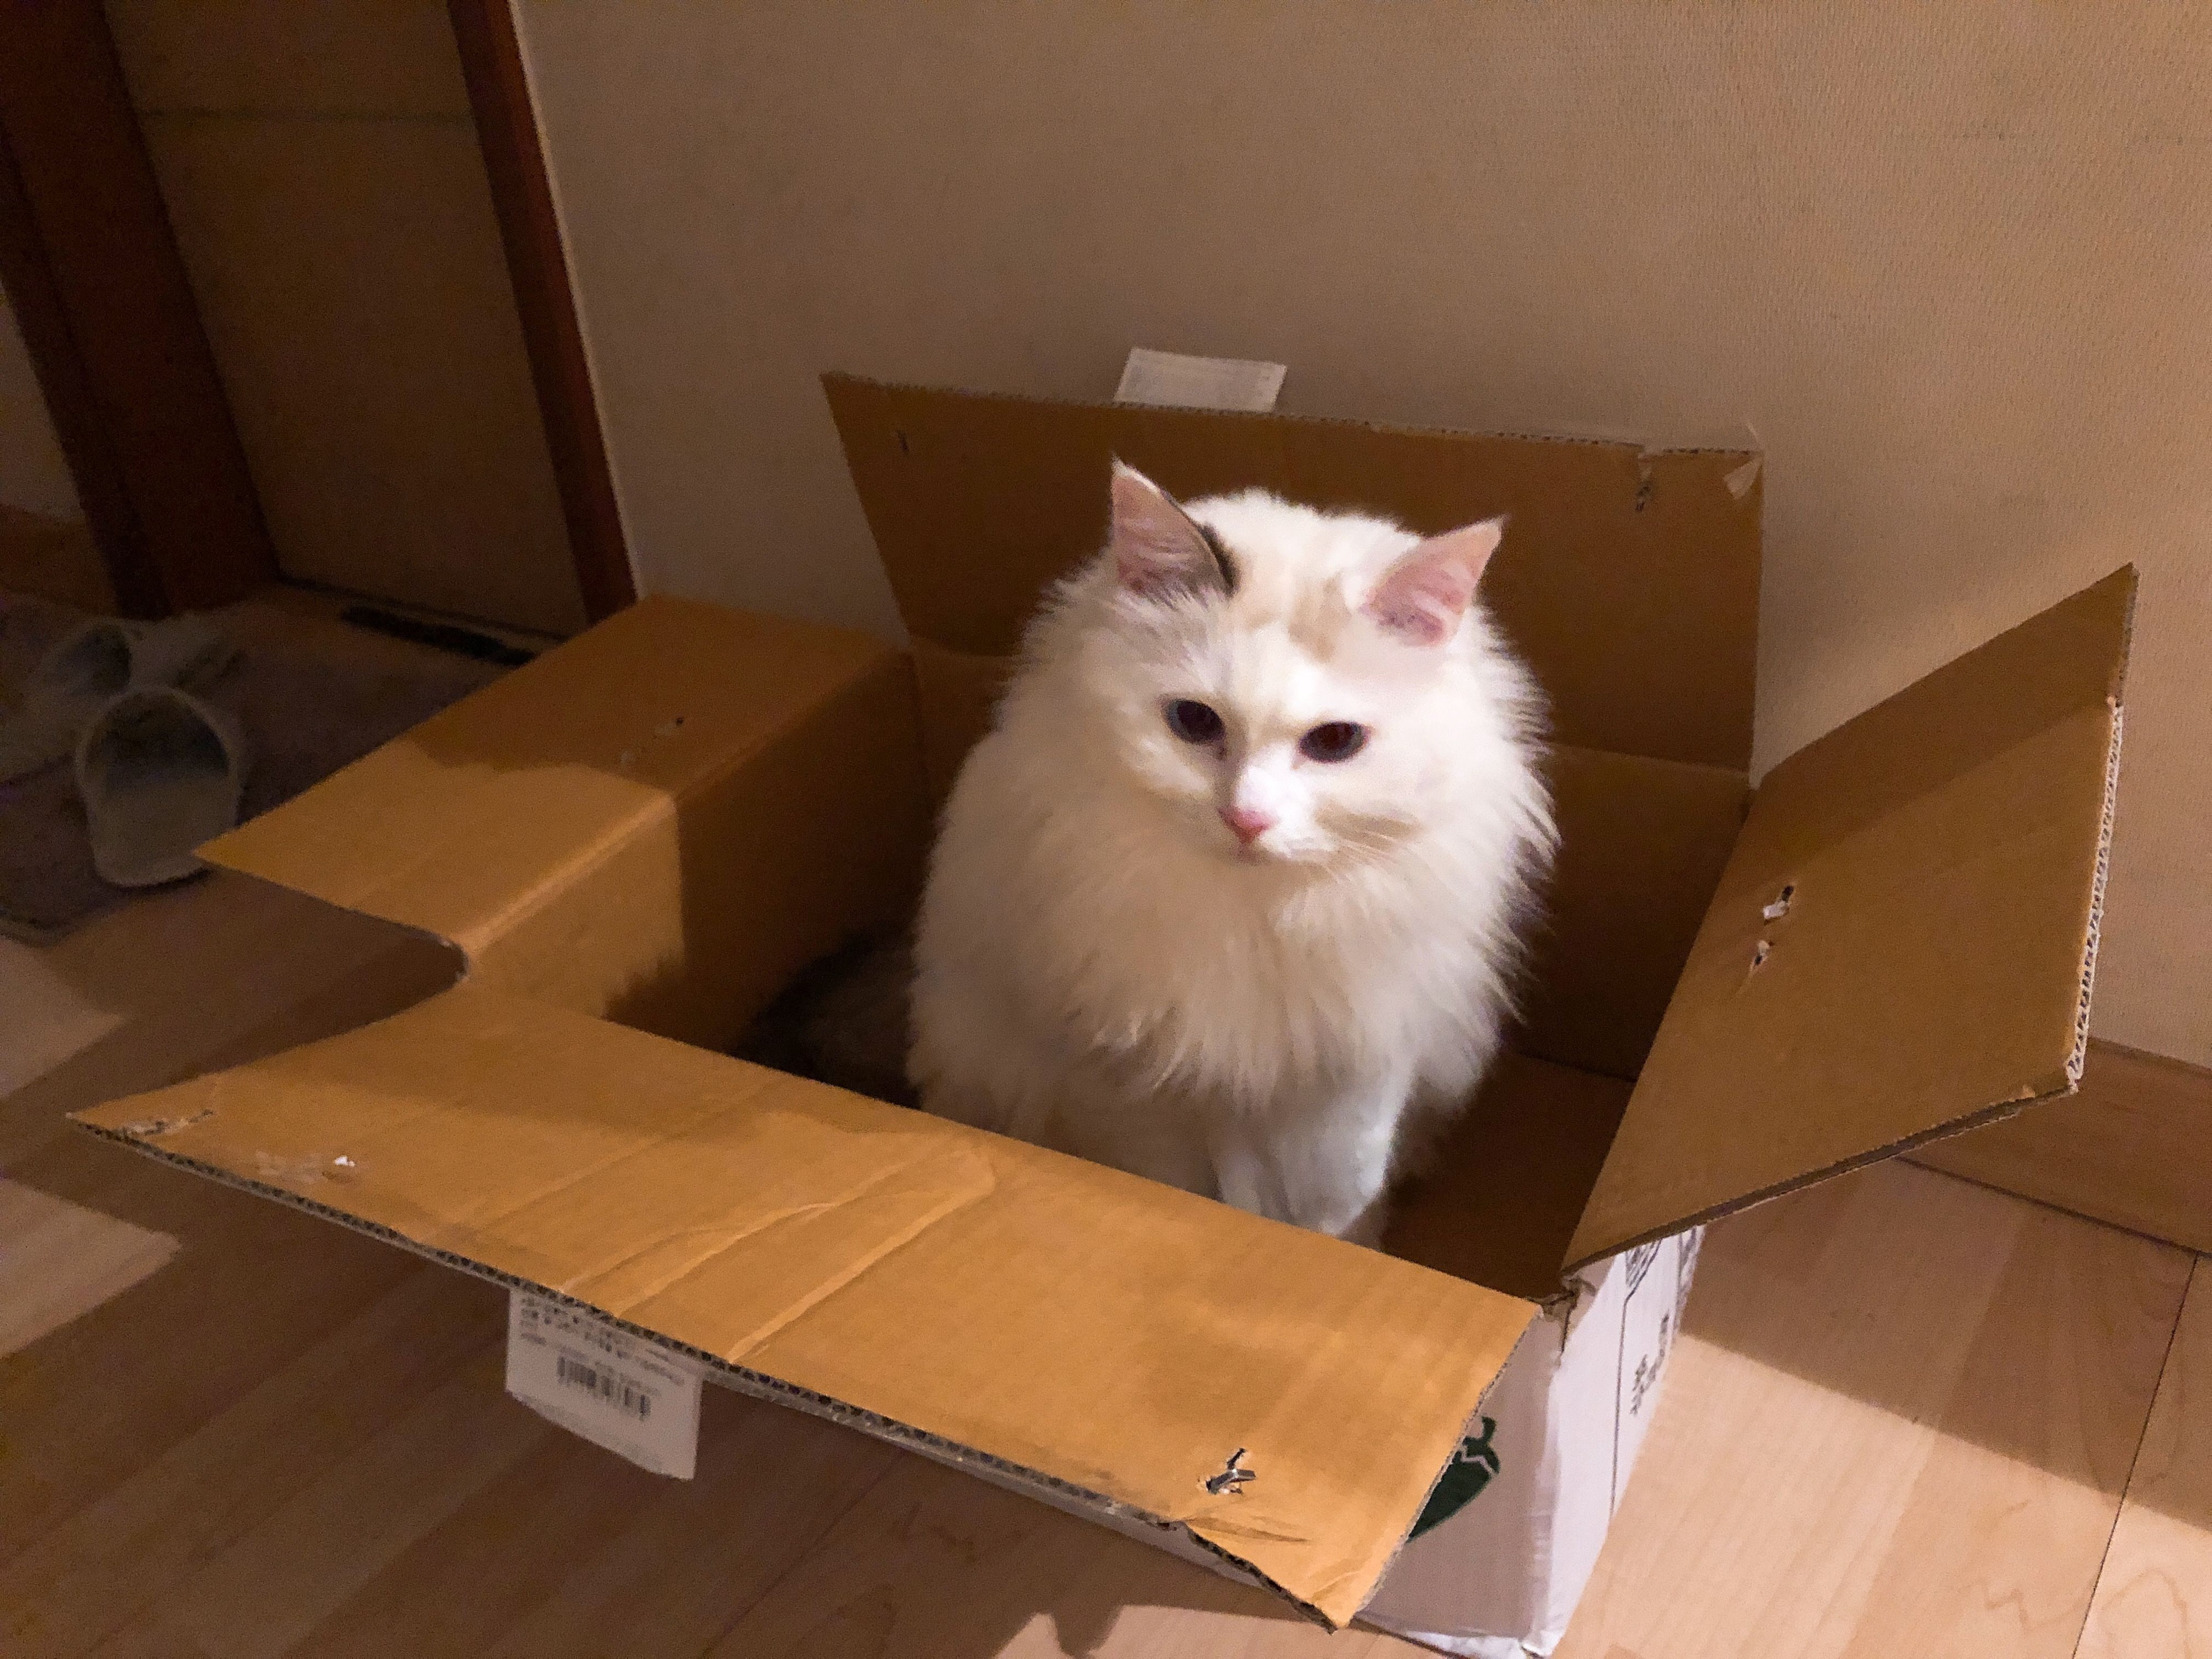cat: (869, 441, 1550, 1288)
cat-face: (1003, 451, 1559, 915)
